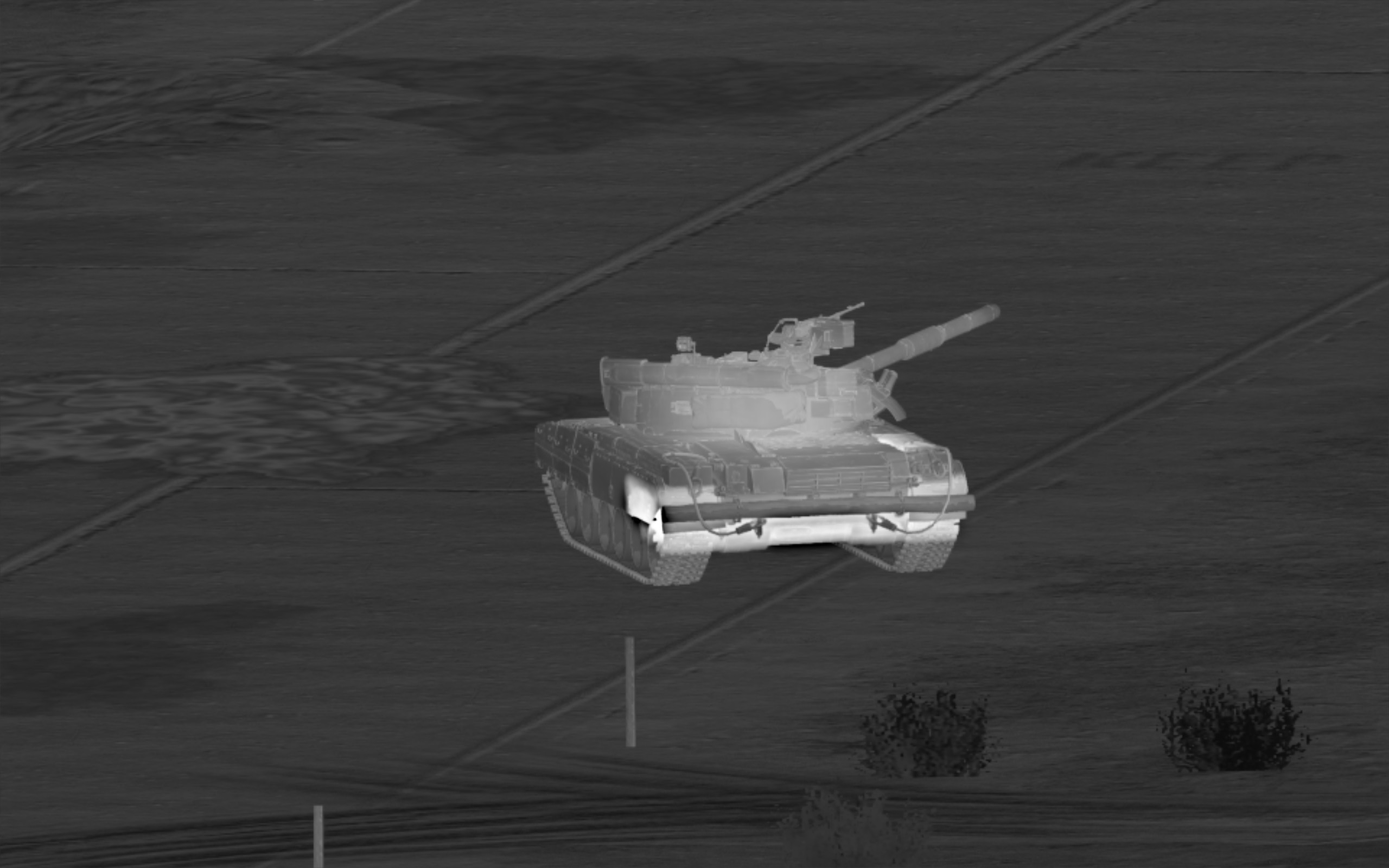t-80u: (533, 302, 1000, 586)
